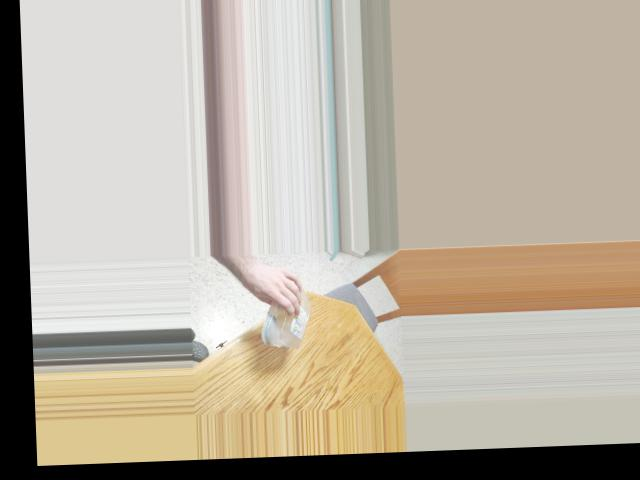cheese: (263, 288, 313, 345)
